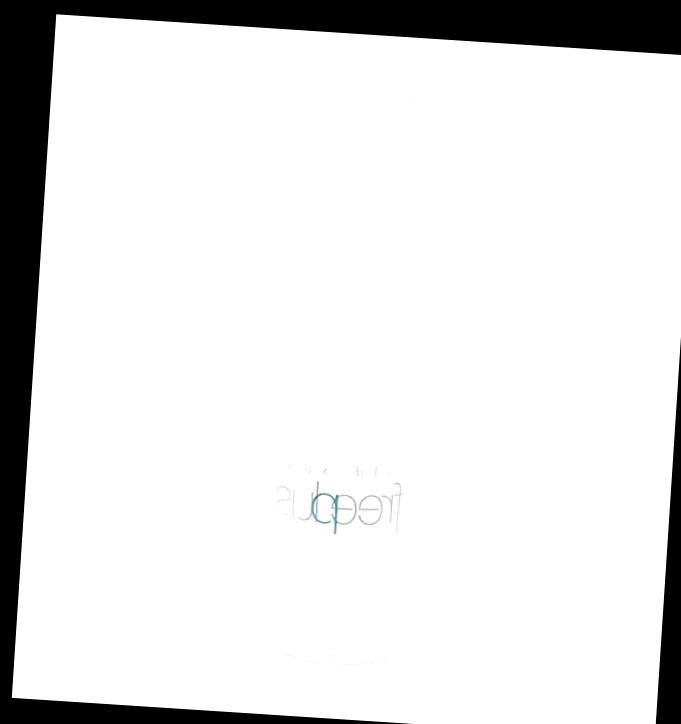cosmetic: (200, 65, 480, 673)
